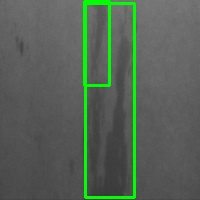inclusion: (85, 3, 134, 197), (84, 1, 109, 85)
